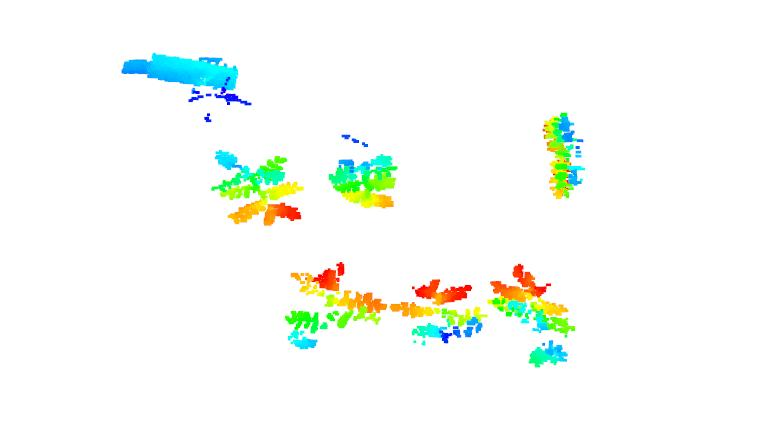chickpea: (281, 261, 388, 350), (490, 263, 575, 367), (208, 149, 306, 226), (391, 279, 488, 346), (542, 110, 587, 201), (331, 151, 399, 210)
